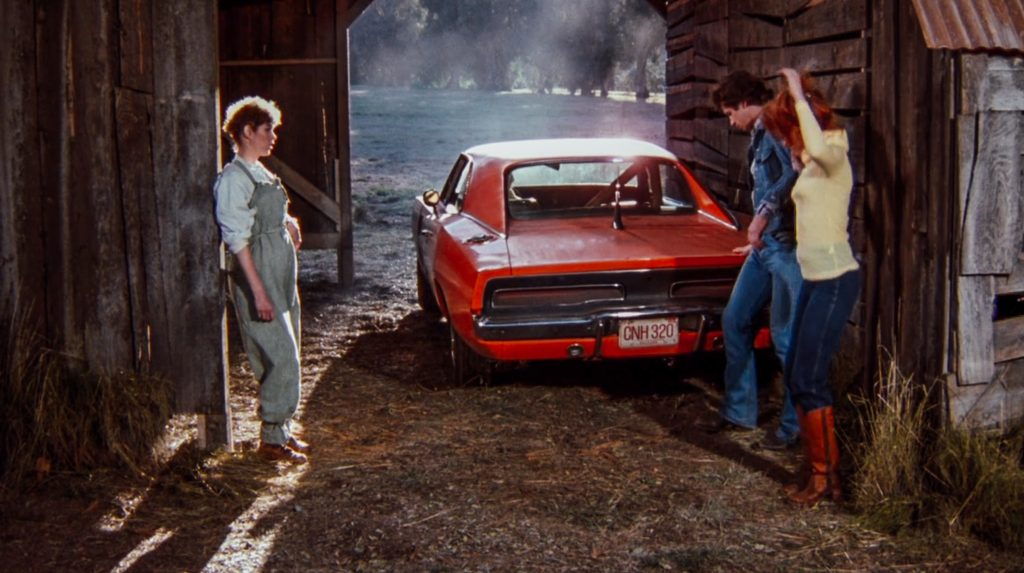license plate: (618, 320, 677, 346)
